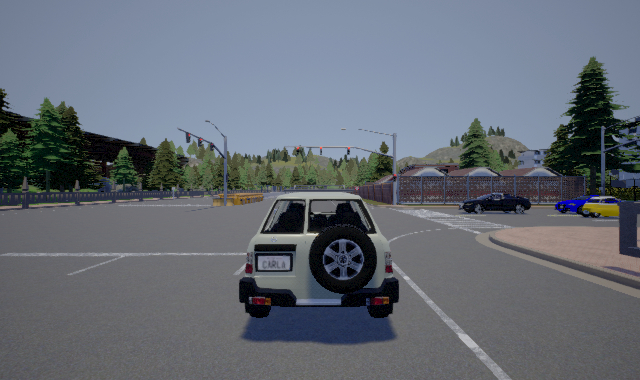traffic_light: (186, 132, 191, 143), (198, 137, 203, 147), (210, 142, 214, 151), (393, 174, 396, 182), (347, 147, 350, 155), (320, 147, 322, 155), (297, 147, 299, 155)
vehicle: (237, 191, 399, 318), (458, 194, 531, 214), (583, 194, 627, 220), (554, 195, 599, 217)
